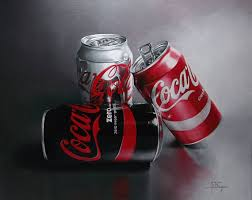can: (137, 50, 223, 153), (39, 102, 168, 164), (73, 22, 132, 107)
